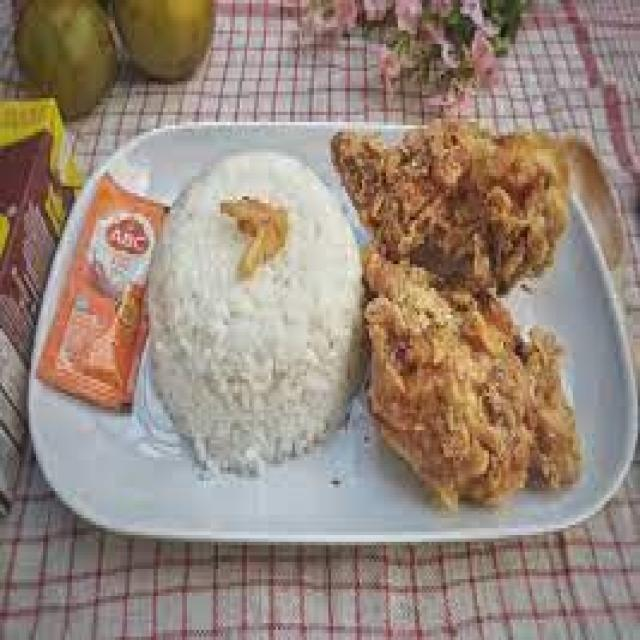Frango: (361, 272, 563, 516), (348, 107, 575, 267)
